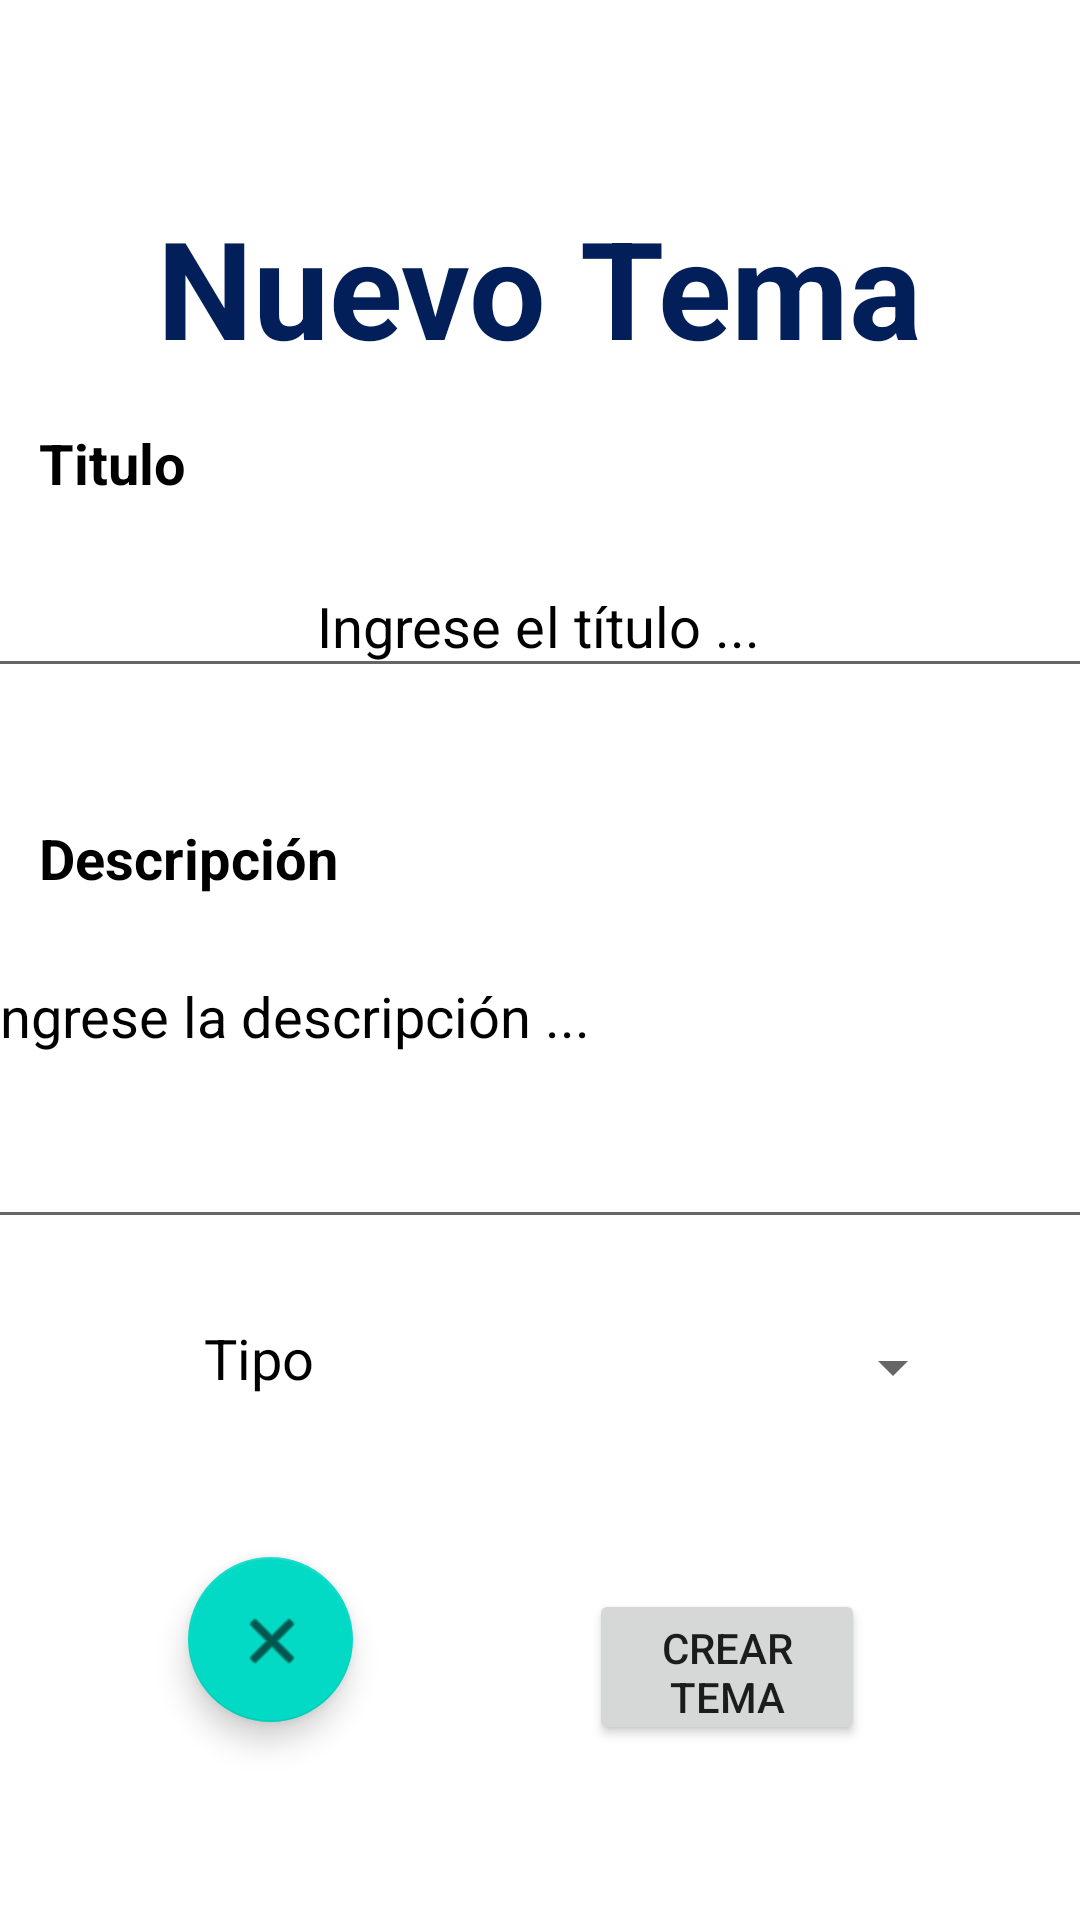

Named icons in this screenshot (1080 × 1920) and their bounding boxes, (x1, y1, x2, y2):
close clear cancel: (188, 1557, 353, 1722)
